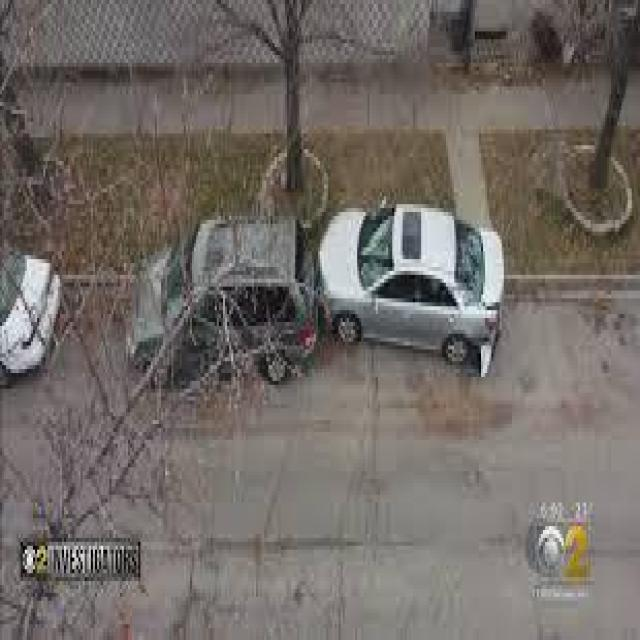moderate: (124, 180, 508, 400)
